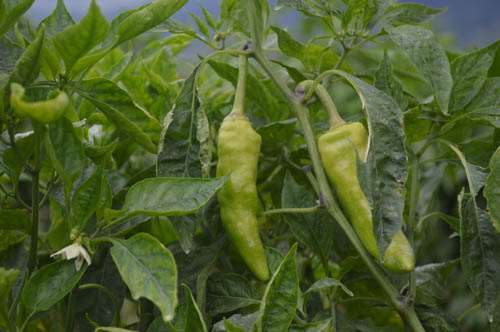ChiliPepper: (321, 123, 419, 273), (218, 120, 270, 280)
